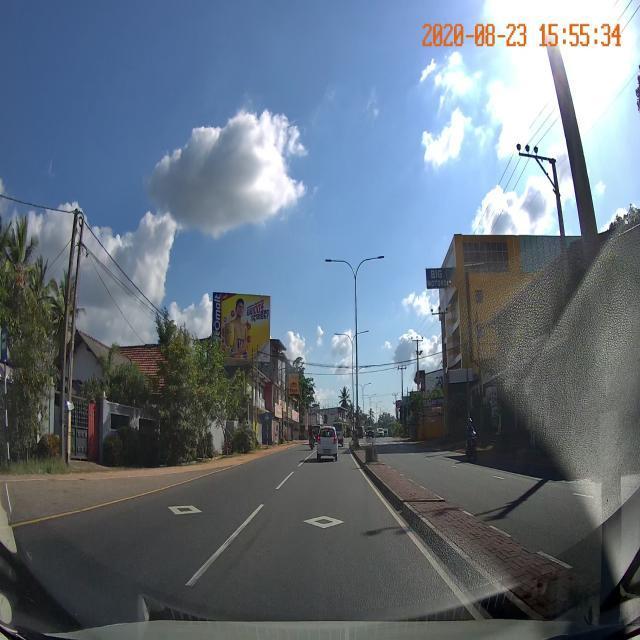diamond: (218, 500, 436, 550)
